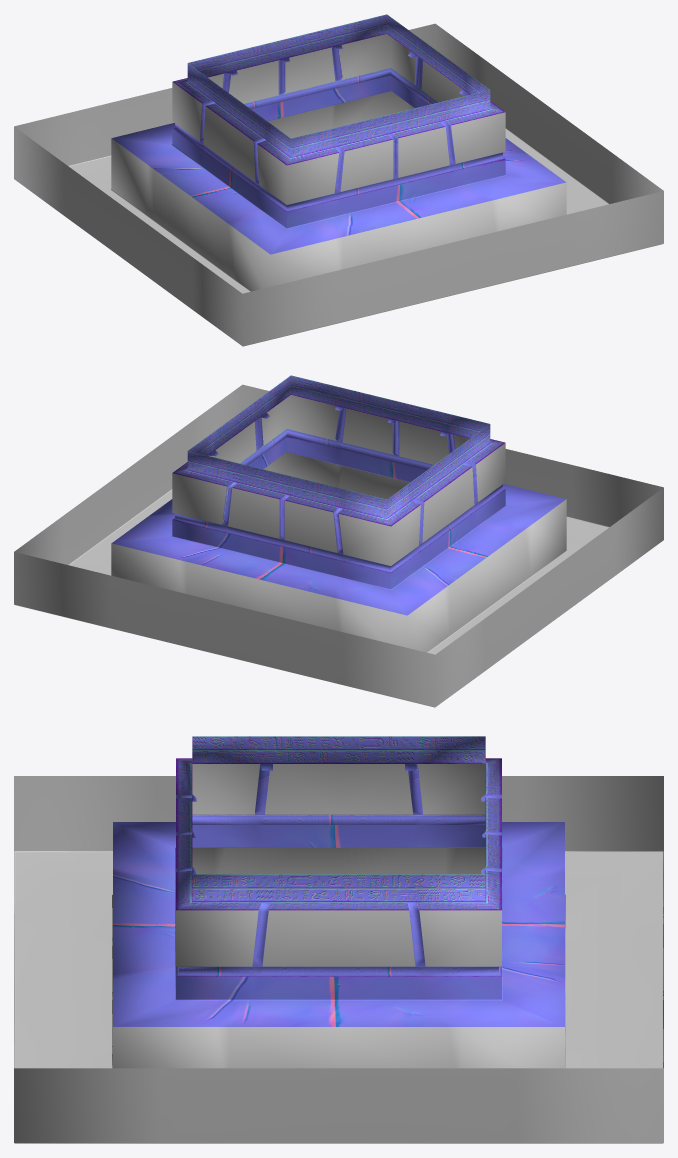
File: Skylight.fbx
3 renders of one model, top to bottom at view 1: azimuth 30°, elevation 25°; view 2: azimuth 150°, elevation 25°; view 3: azimuth 270°, elevation 25°, orthographic. The views are drawn at different scales.
Parts seen in each view (by area): view 1: SkyLight; view 2: SkyLight; view 3: SkyLight.
Part boxes in pixels (bbox=[...]): SkyLight: bbox=[14, 14, 663, 346]; SkyLight: bbox=[14, 375, 663, 707]; SkyLight: bbox=[14, 736, 663, 1143].
Size of the model in its own units: 33.95 by 10.44 by 31.9.
